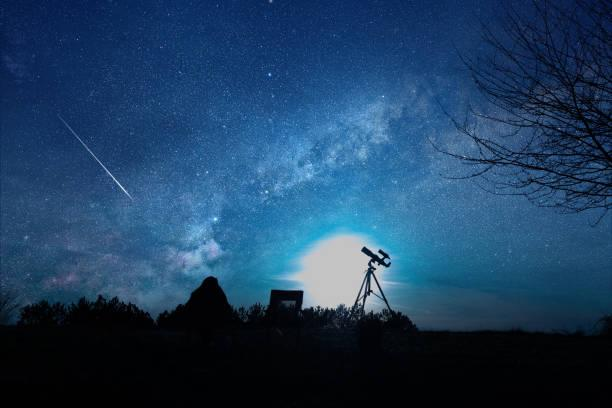meteor: (123, 191, 138, 206)
